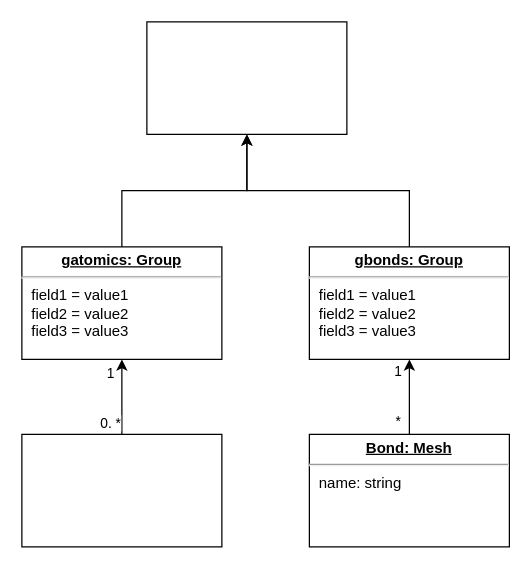
Image size: 531x569. Some labels were removed from this diagram. The shapes that lost their labels are listed below. From the top down, each one's centre as x and y in pixels, then its label:
At (x=246, y=77): "scene : Scene field1 = value1 field2 = value2 field3 = value3".
At (x=121, y=490): "Atomic: Mesh name: string".
